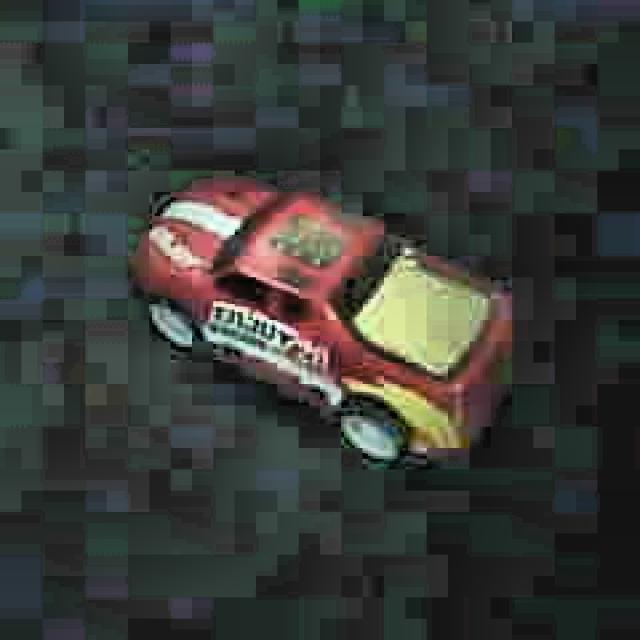car: (127, 166, 526, 475)
